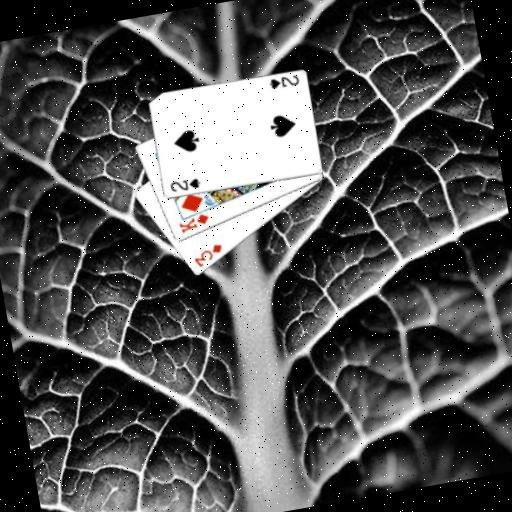2S: (166, 174, 203, 195), (264, 71, 301, 92)
3D: (189, 240, 227, 271)
KD: (174, 209, 212, 235)
